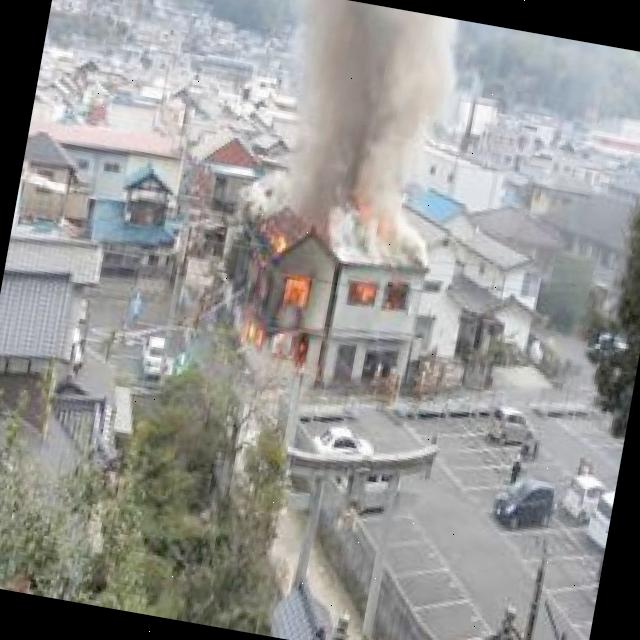fire: (227, 228, 324, 370), (340, 274, 384, 304)
